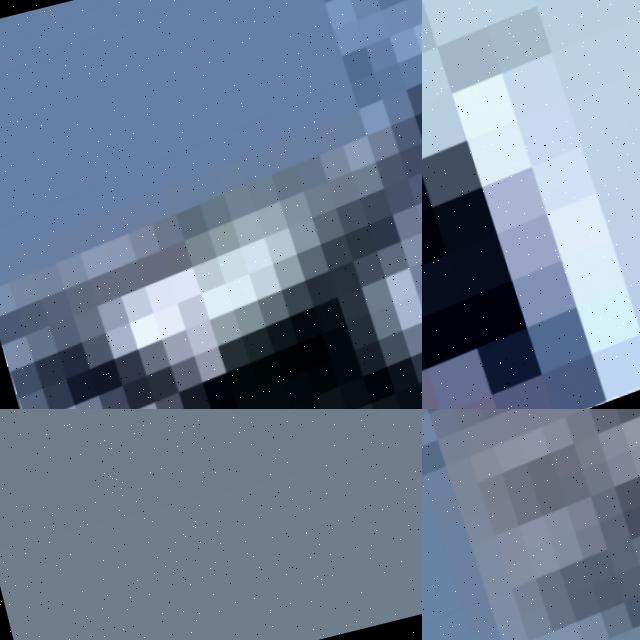0: (0, 0, 422, 409), (422, 409, 640, 640)
drone: (422, 0, 640, 409)
